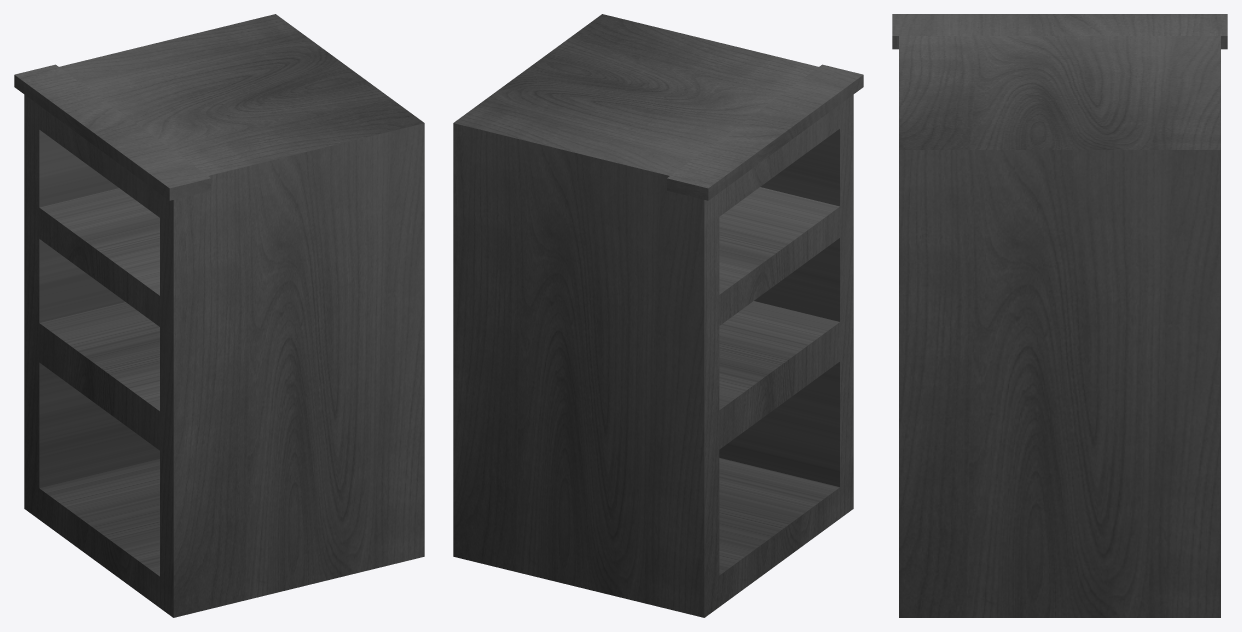
Rendered from Nightstand.fbx.
3 views of the same model, side by side, from view 1: azimuth 30°, elevation 25°; view 2: azimuth 150°, elevation 25°; view 3: azimuth 270°, elevation 25° (orthographic). The views are drawn at different scales.
Visible parts, largest first — view 1: NightStand1; view 2: NightStand1; view 3: NightStand1.
Part boxes in pixels (bbox=[...]): NightStand1: bbox=[14, 14, 424, 617]; NightStand1: bbox=[453, 14, 863, 617]; NightStand1: bbox=[892, 14, 1227, 617].
Size of the model in its own units: 2.26 by 3.62 by 2.36.
